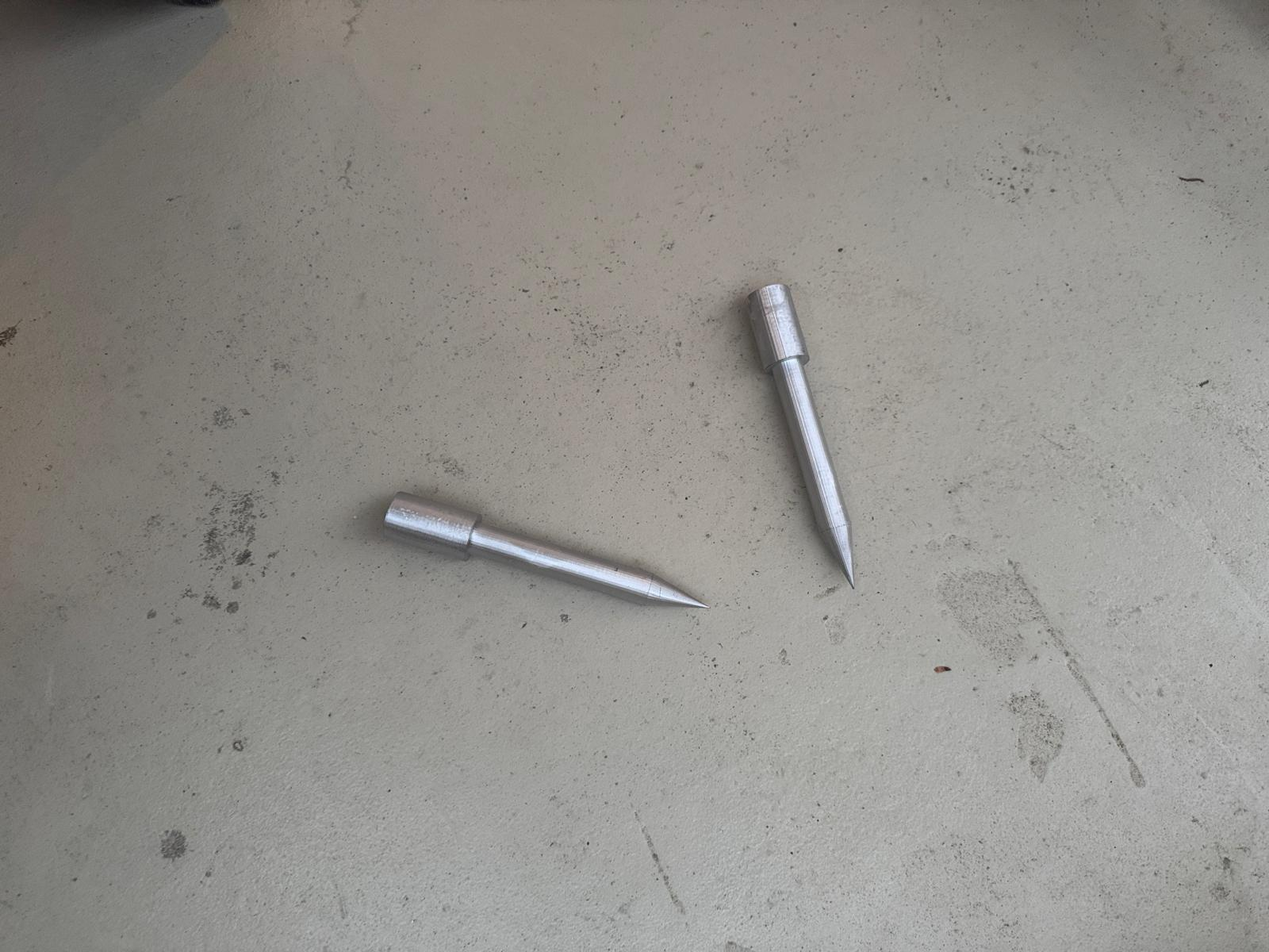probes: (377, 491, 706, 610), (744, 284, 855, 588)
